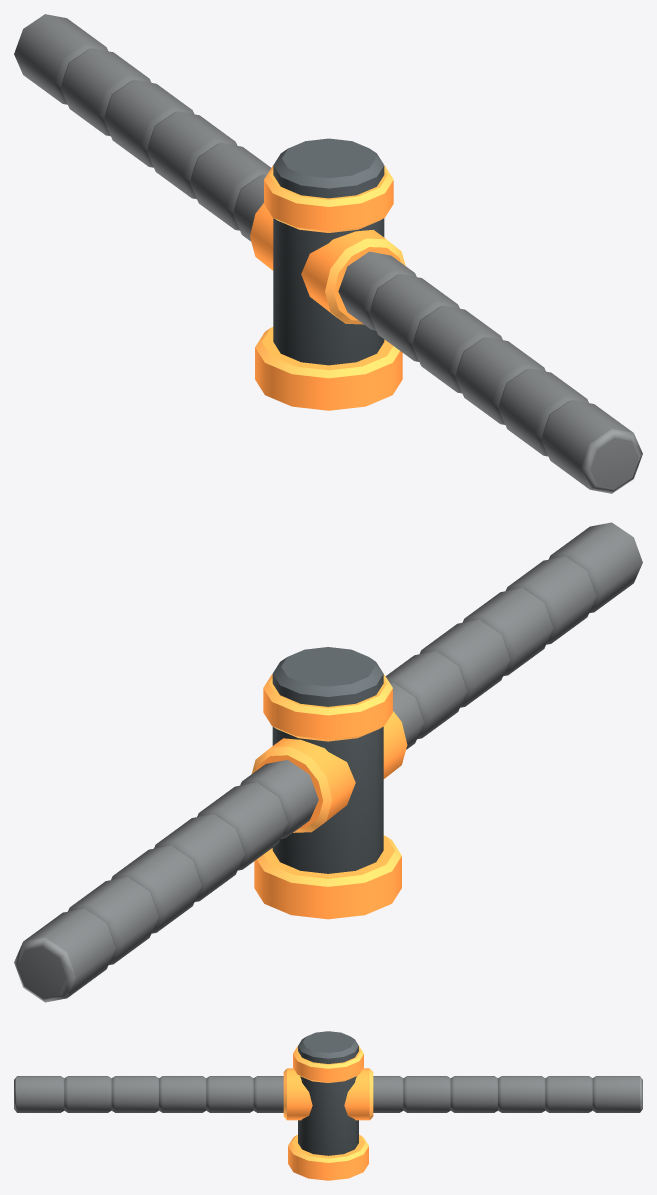
The model's file is obstacle_3_001.glb.
The picture shows the model from 3 angles, top to bottom: view 1: azimuth 30°, elevation 25°; view 2: azimuth 150°, elevation 25°; view 3: azimuth 270°, elevation 25°; orthographic projection. The views are drawn at different scales.
Visible parts, largest first — view 1: obstacle_3_001; view 2: obstacle_3_001; view 3: obstacle_3_001.
Part boxes in pixels (x1,y1,x2,y2): obstacle_3_001: (14,14,642,493); obstacle_3_001: (14,522,642,1002); obstacle_3_001: (14,1031,642,1180).
Size of the model in its own units: 1.01 by 1.68 by 7.86.
Materials: 2 (2 with a texture image).
